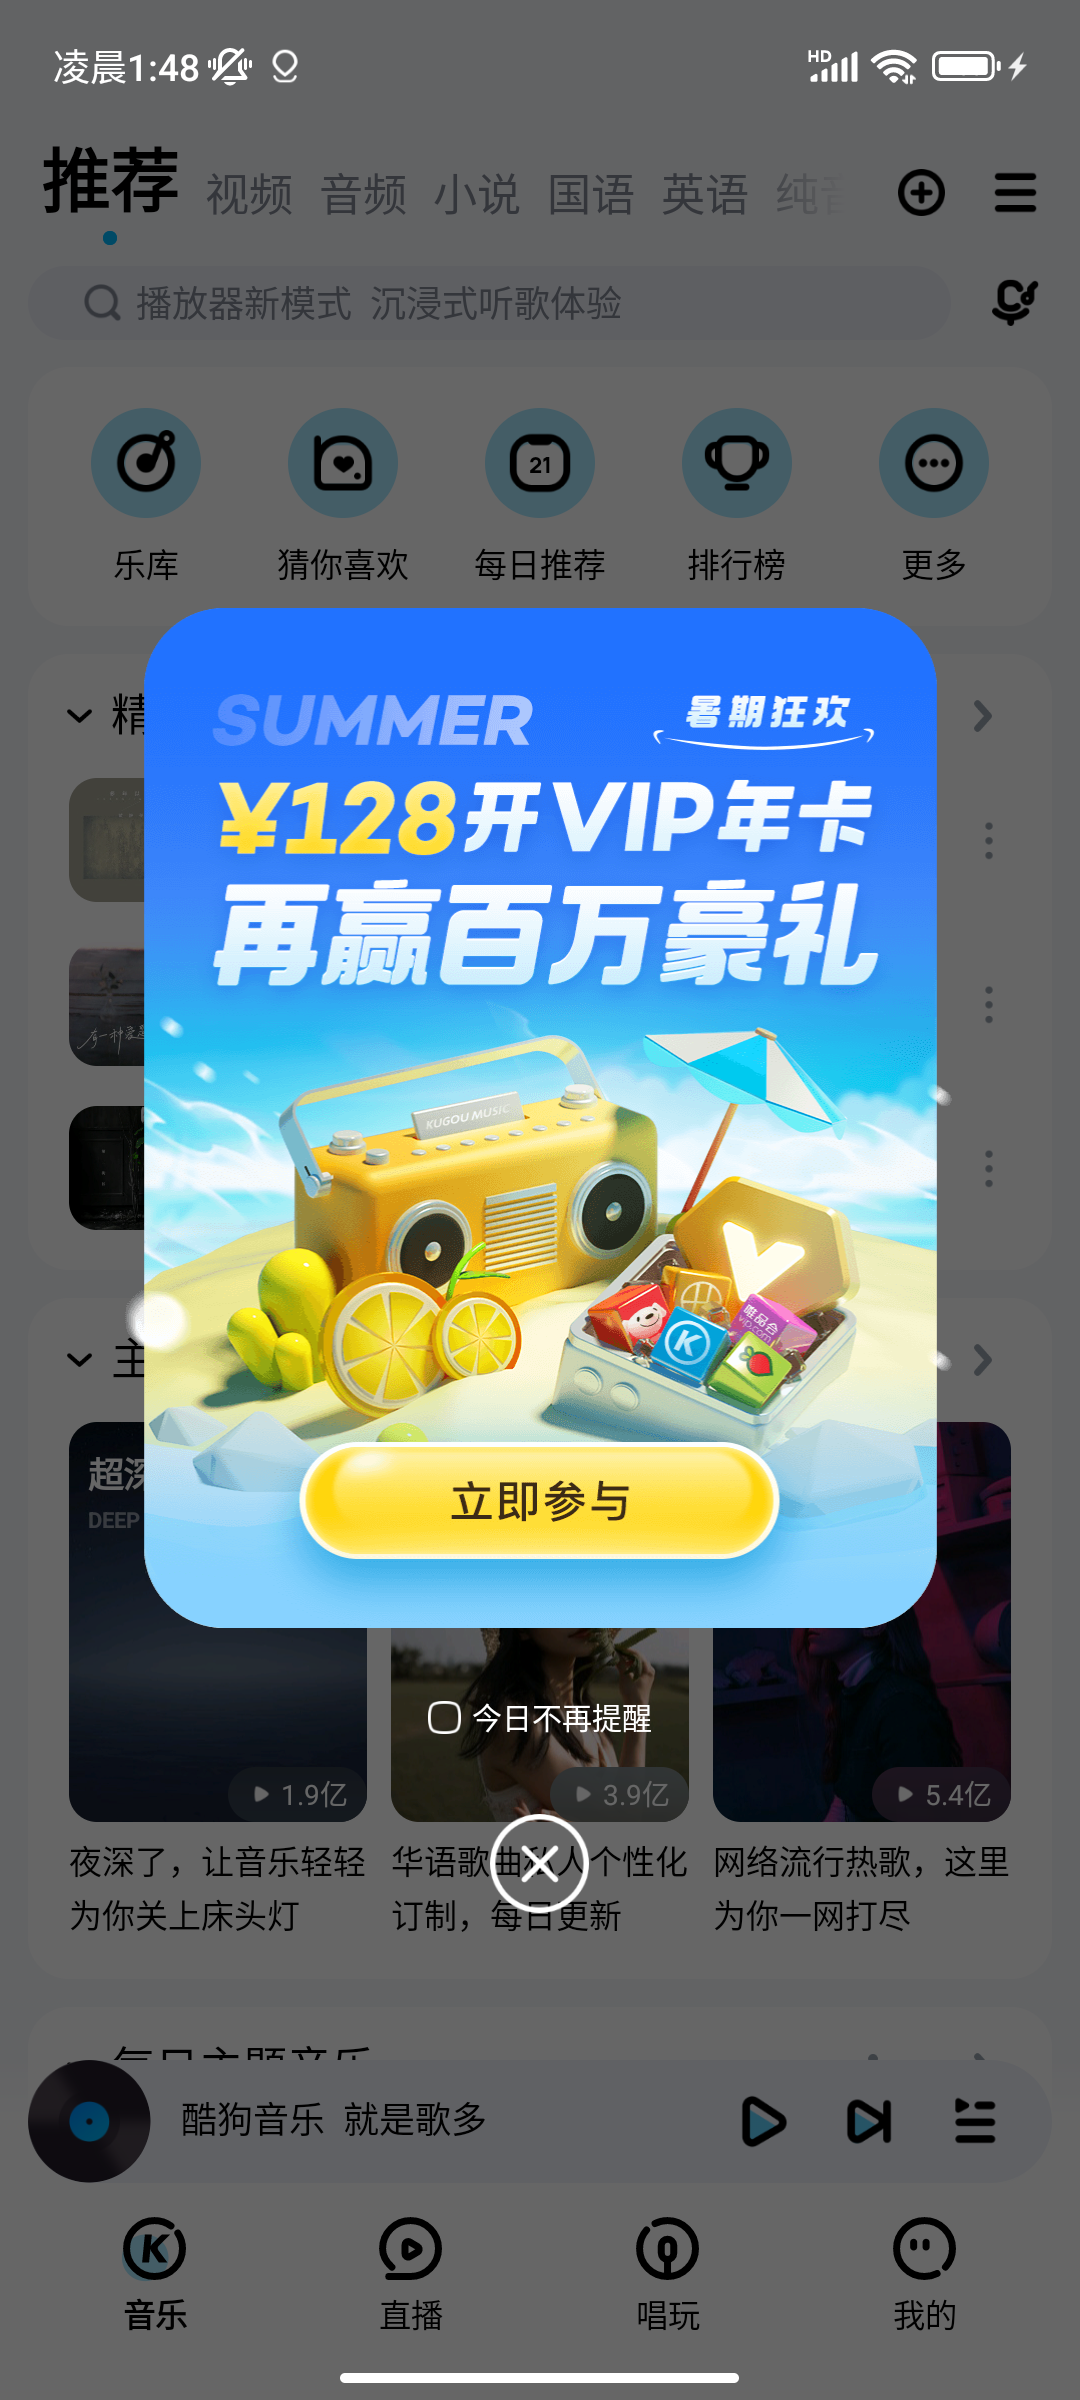ui_group: (141, 608, 938, 1924)
